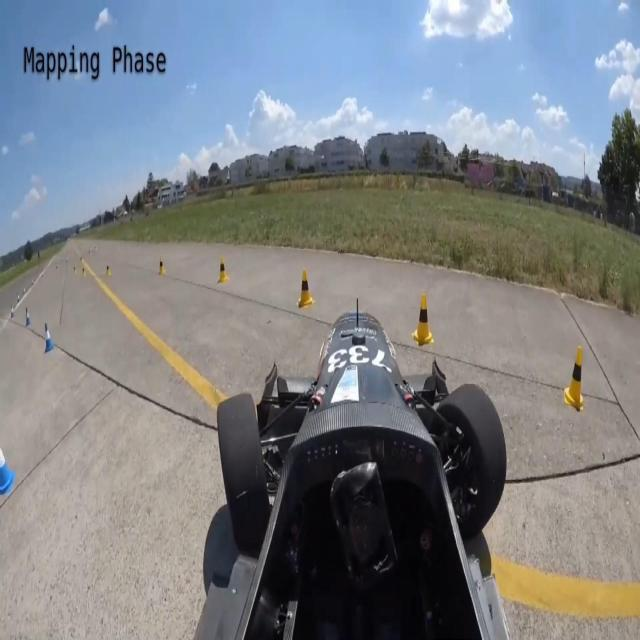yellow_cone: (560, 351, 586, 410), (412, 287, 433, 345), (295, 270, 315, 312), (156, 252, 174, 283), (215, 256, 229, 286)
